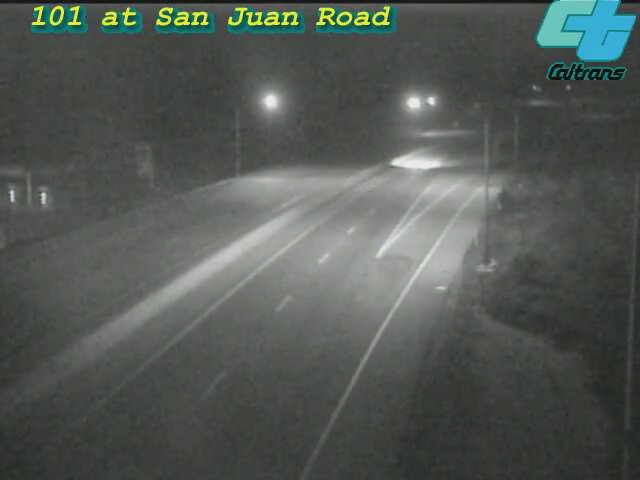vehicle: (380, 124, 460, 204)
